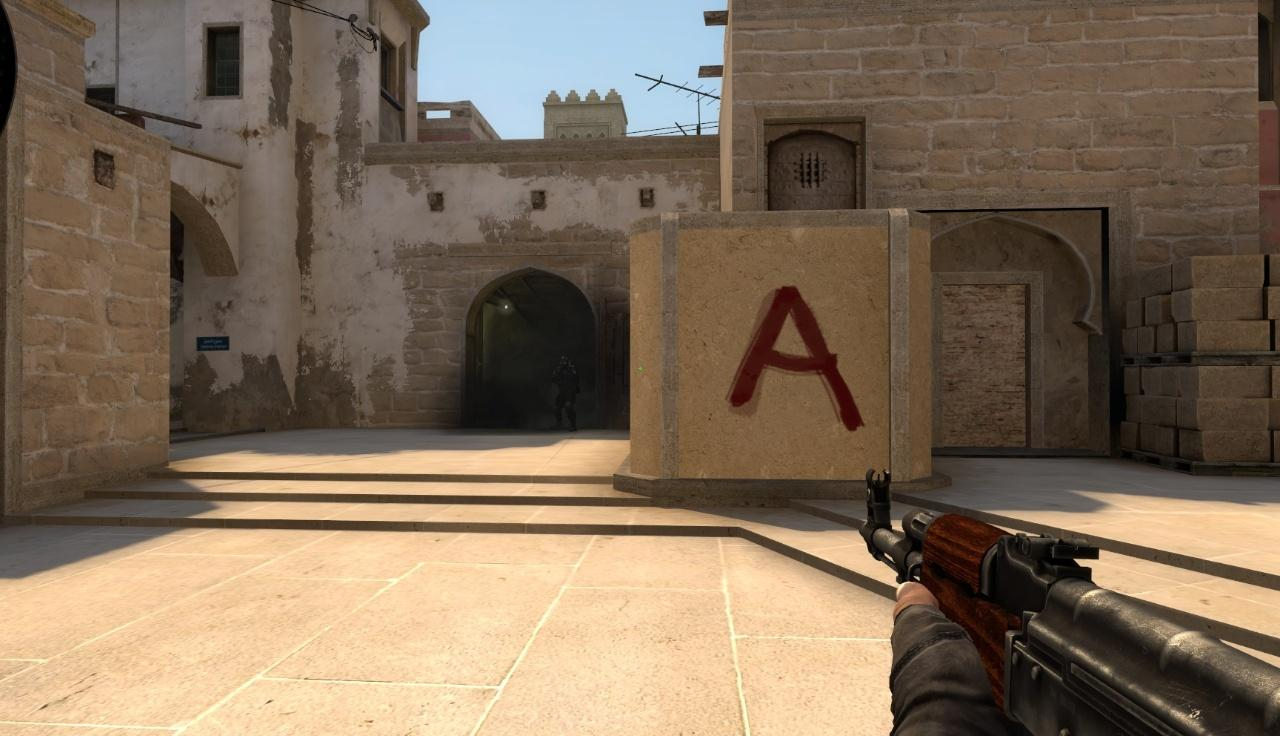ct: (552, 356, 579, 431)
cthead: (559, 356, 569, 369)
rifle: (860, 468, 1280, 736)
